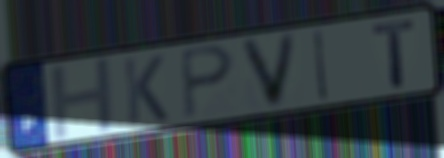H: (47, 54, 119, 144)
I: (312, 26, 331, 104)
K: (120, 52, 171, 126)
P: (177, 43, 237, 122)
T: (370, 16, 420, 91)
V: (236, 30, 301, 112)
